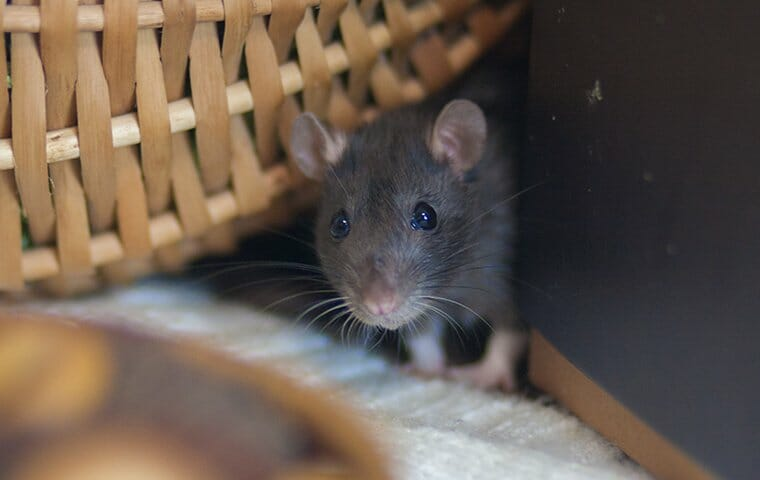Rat: (282, 66, 539, 394)
